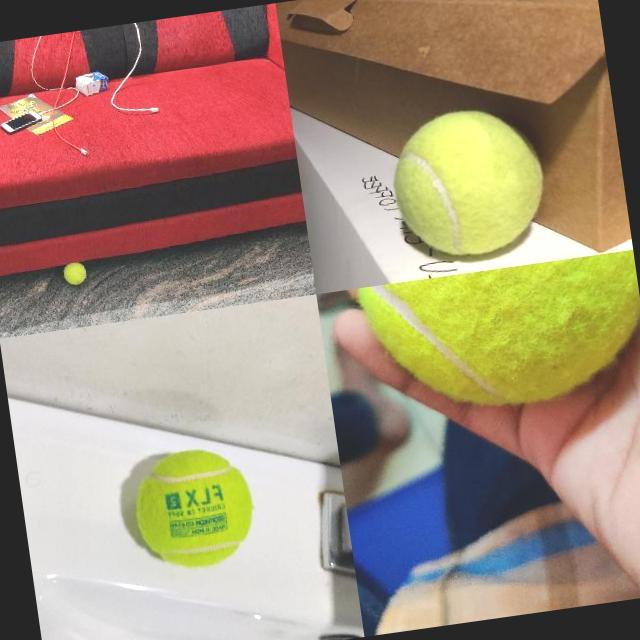Tennis Ball: (359, 250, 640, 422), (385, 100, 554, 266), (127, 440, 263, 578), (64, 261, 88, 286)
